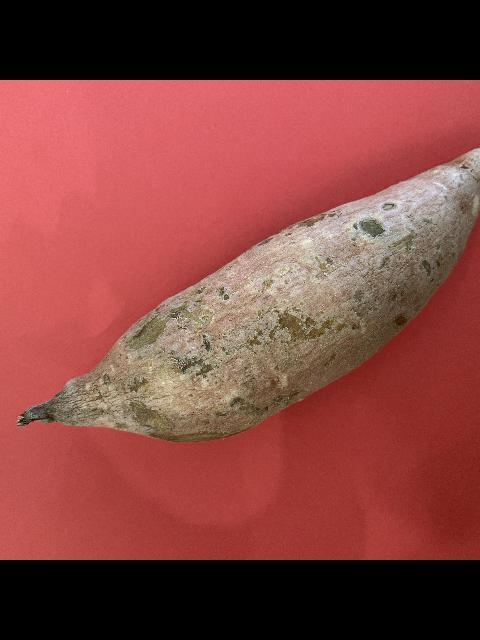sweetpotato: (10, 146, 480, 446)
